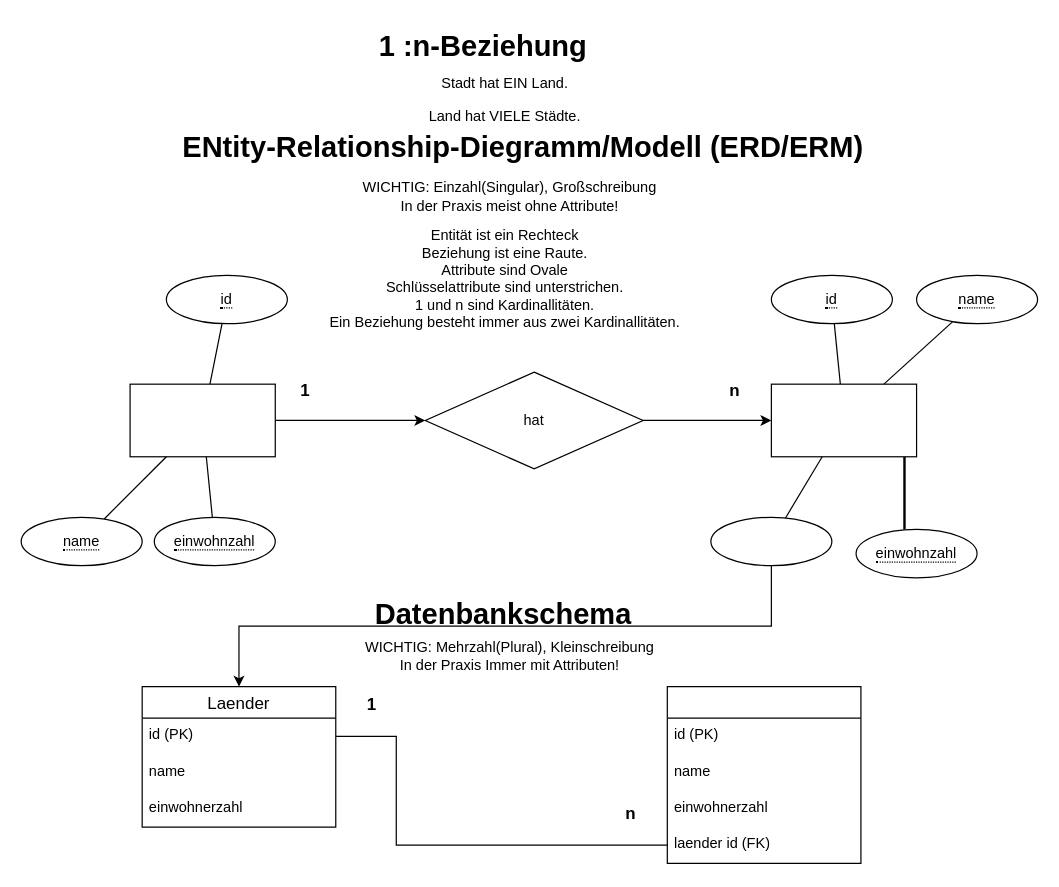
The diagram is 1059 pixels wide and 887 high, and some of its shapes have lost their labels. Each missing label, with the box of its shape:
laender id: (710, 516, 832, 566)
Land: (129, 383, 275, 457)
Stadt: (770, 383, 917, 457)
staedte: (666, 685, 861, 863)
